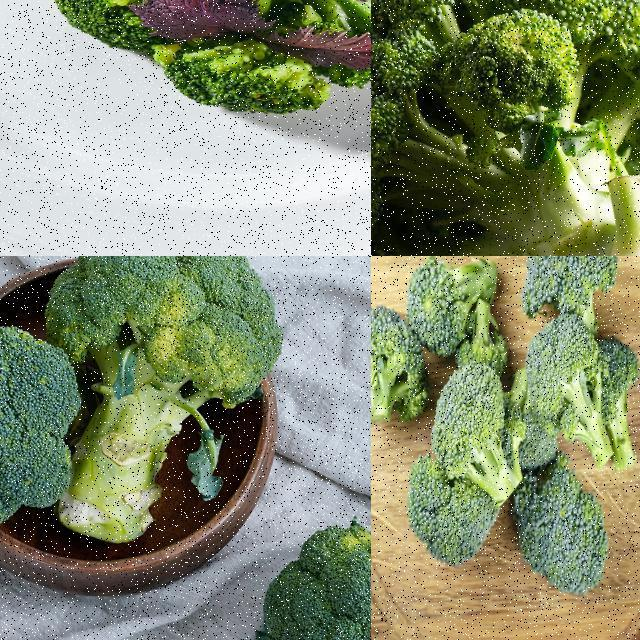broccoli: (371, 0, 639, 255), (54, 256, 285, 541), (0, 317, 78, 533), (265, 487, 370, 639), (148, 30, 326, 111), (428, 360, 524, 510), (528, 316, 612, 472), (512, 460, 601, 600), (514, 256, 615, 346), (275, 0, 370, 93), (408, 256, 502, 349), (371, 304, 431, 432), (588, 329, 639, 477), (157, 0, 324, 31)
